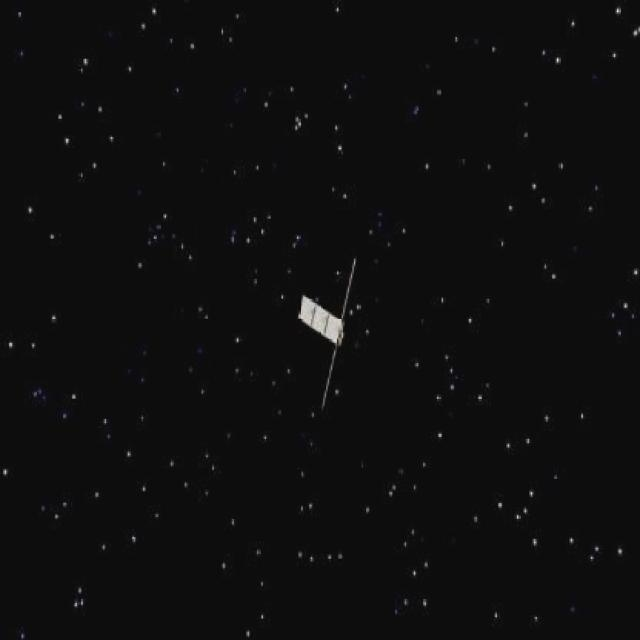medium_debris: (289, 254, 366, 410)
